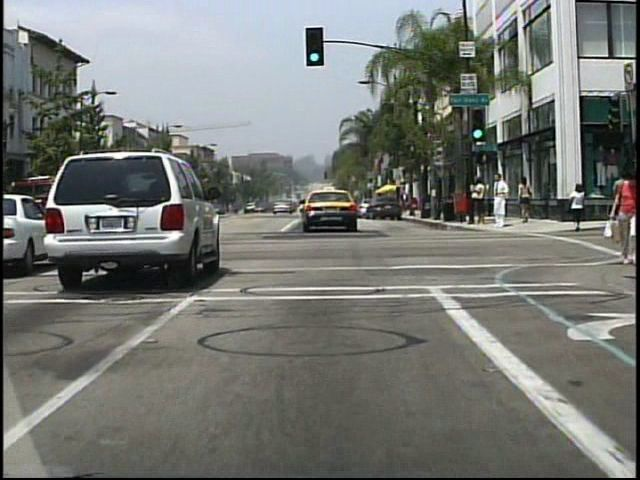person: (603, 171, 638, 263), (611, 169, 632, 233), (489, 174, 510, 228), (570, 180, 588, 231), (518, 176, 535, 225), (473, 173, 486, 226), (402, 191, 411, 215)
